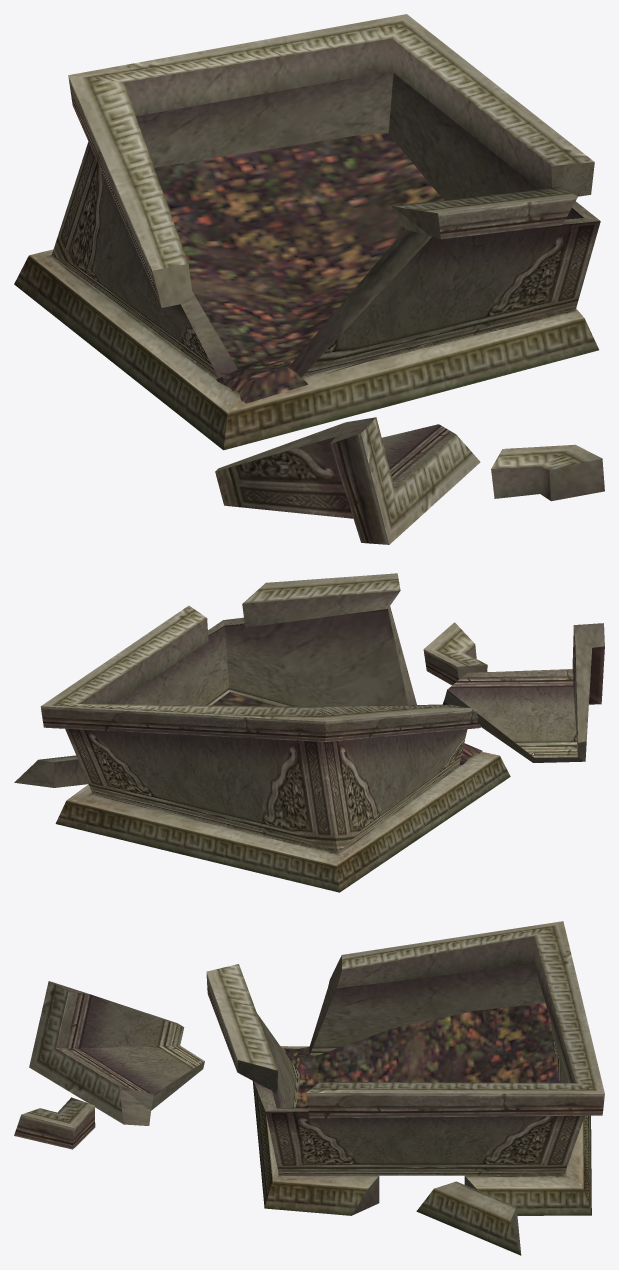
Rendered from popenjing_40.FBX.
The picture shows the model from 3 angles, top to bottom: view 1: azimuth 30°, elevation 25°; view 2: azimuth 150°, elevation 25°; view 3: azimuth 270°, elevation 25°; orthographic projection. The views are drawn at different scales.
Visible parts, largest first — view 1: popenjing_40; view 2: popenjing_40; view 3: popenjing_40.
Part boxes in pixels (bbox=[...]): popenjing_40: bbox=[14, 14, 604, 544]; popenjing_40: bbox=[14, 573, 604, 892]; popenjing_40: bbox=[14, 921, 604, 1255].
Size of what is drawn, in the model's own units: 137 by 50.7 by 163.
